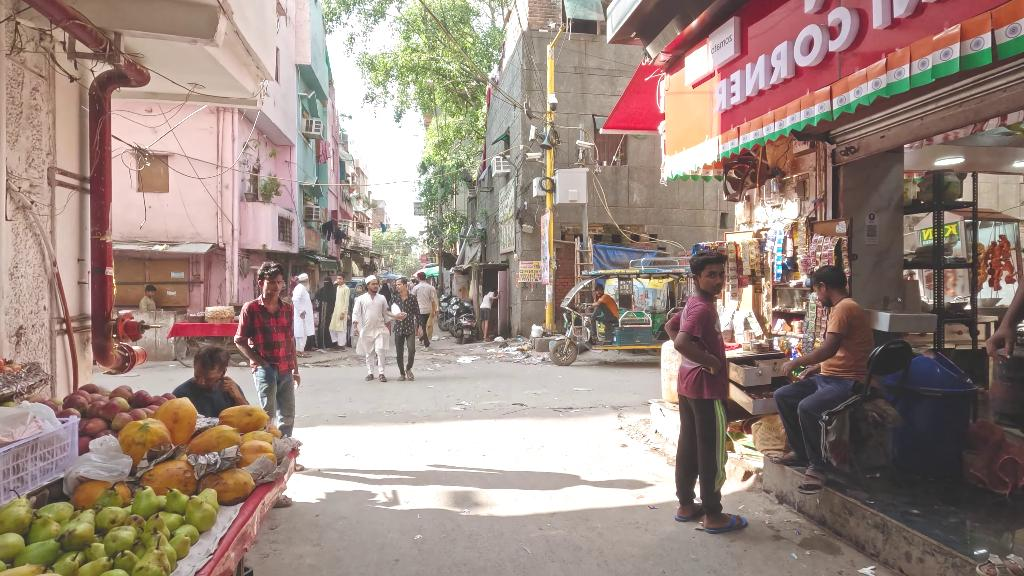garbage: (61, 435, 134, 494), (530, 324, 545, 338), (456, 357, 476, 364)
